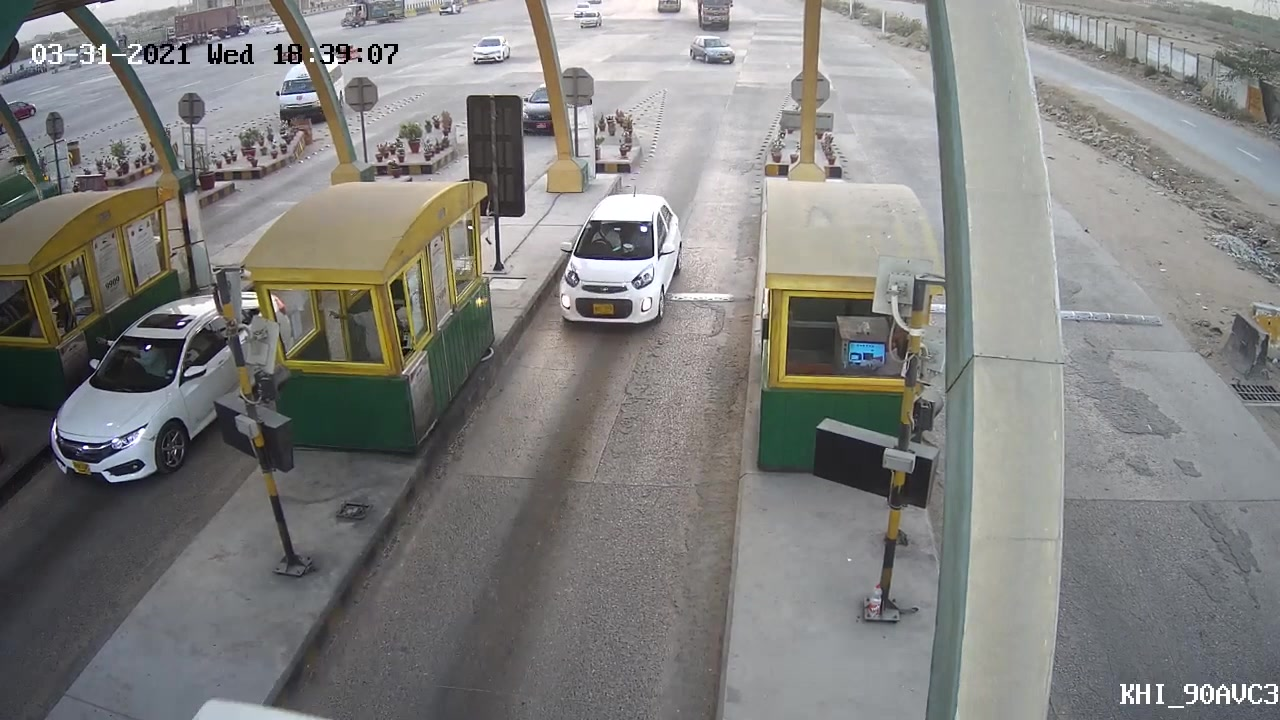F1: (558, 177, 685, 335)
